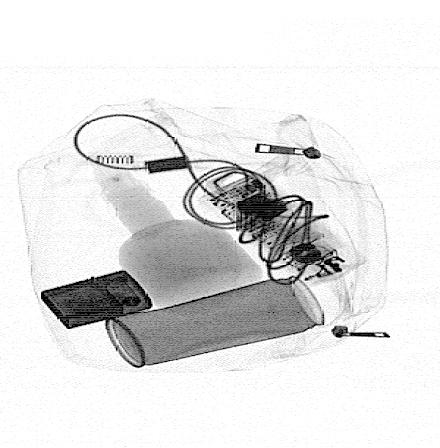Lighter: (40, 270, 152, 329)
